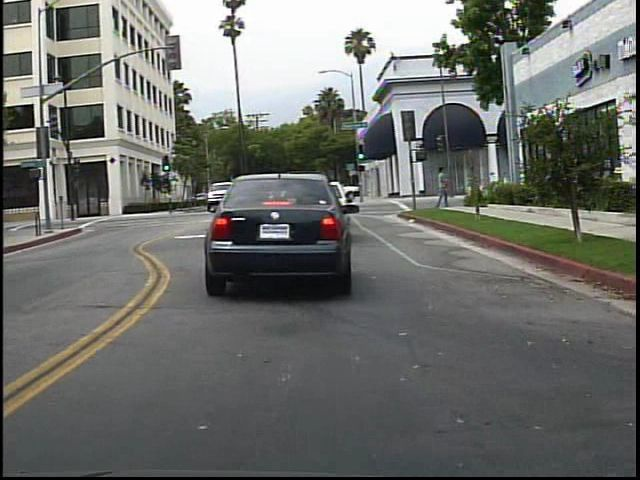person: (433, 164, 456, 213)
